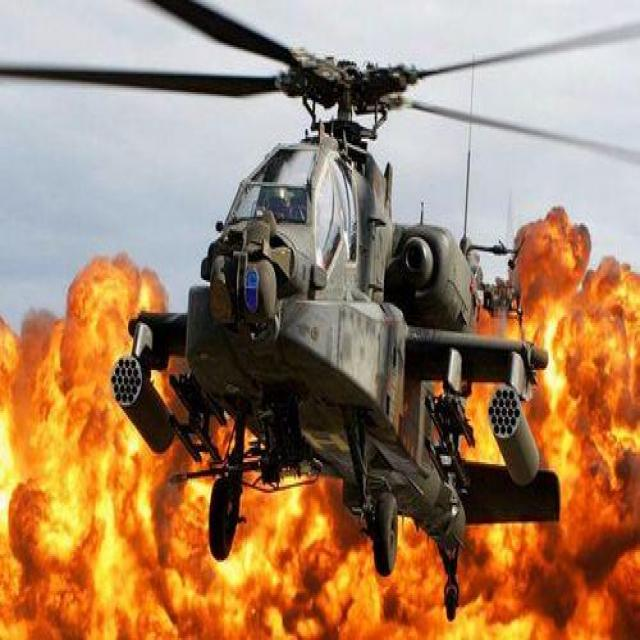MIL_HELO: (6, 1, 632, 628)
